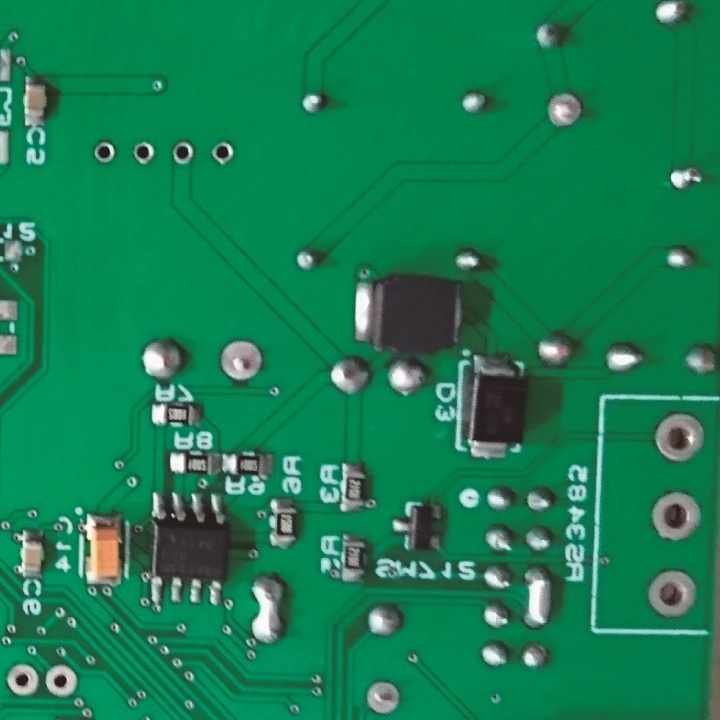F: (648, 488, 702, 544), (656, 408, 707, 466), (647, 566, 697, 620), (220, 338, 265, 389), (544, 89, 584, 129), (364, 680, 407, 716), (43, 663, 81, 698), (5, 660, 39, 699), (209, 138, 236, 169), (170, 138, 194, 168), (130, 139, 155, 166), (93, 140, 115, 166)
P: (247, 568, 289, 649), (521, 563, 554, 635)
